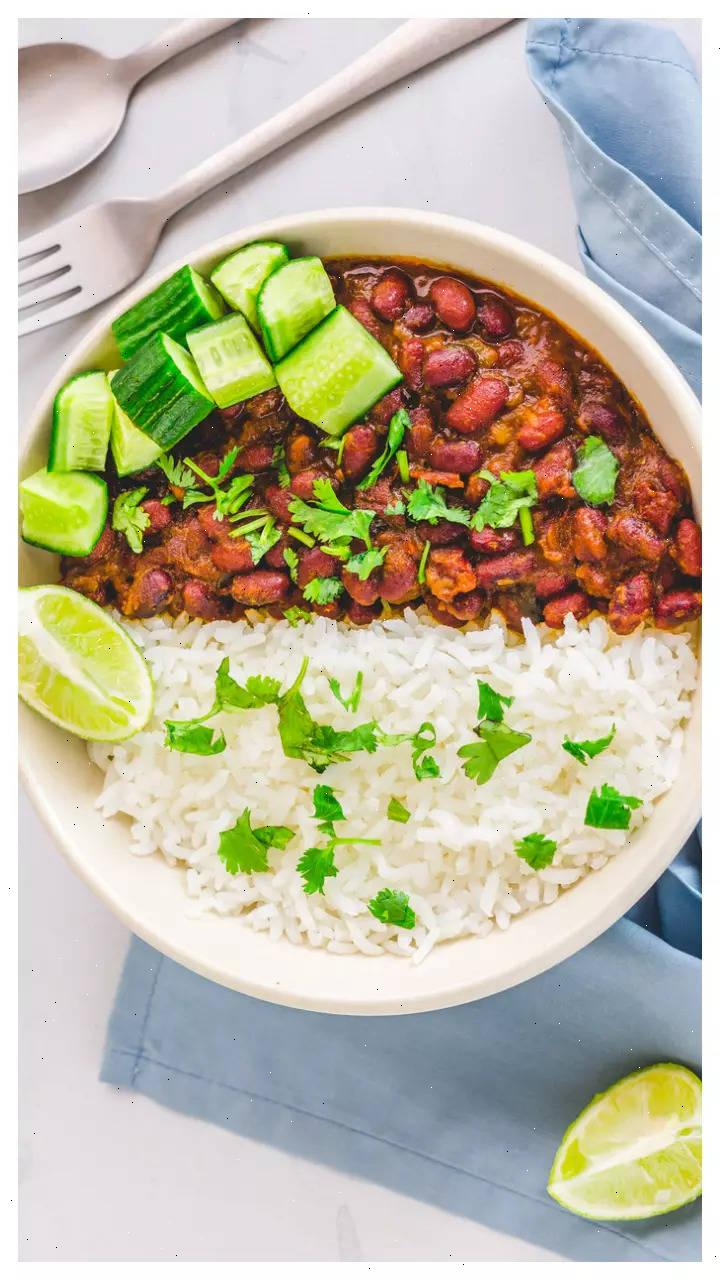rajma: (117, 327, 720, 603)
rice: (0, 617, 720, 1037)
